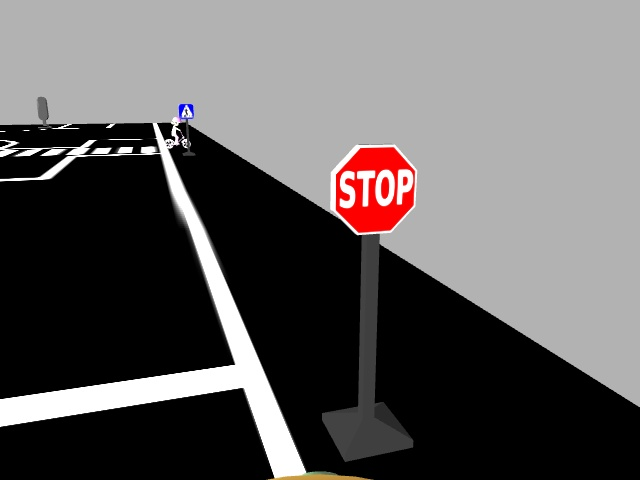Stop: (327, 142, 416, 236)
